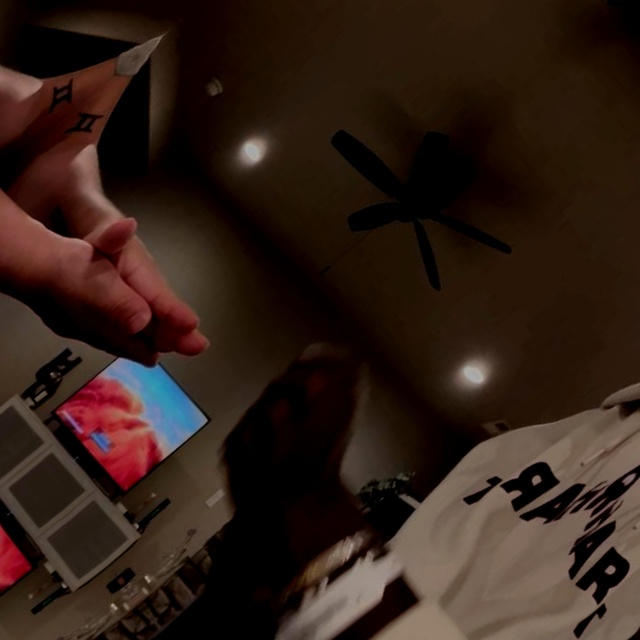Paper: (64, 201, 227, 377)
Rock: (185, 319, 411, 534)
